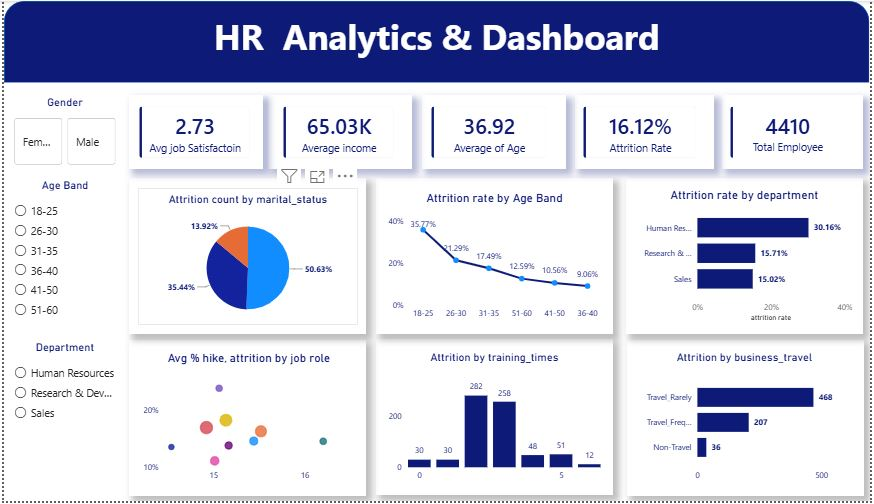

This screenshot's page, from the dashboard's own definition file:
{"tool":"powerbi","page":{"name":"Page 1","canvas":[1317,761],"ordinal":0},"visuals":[{"type":"shape","box":[0,0,1317,124.4],"z":0},{"type":"shape","box":[636.9,142.8,218.7,111.6],"z":0,"group":"g1"},{"type":"textbox","box":[0,12.1,1317,100.2],"z":1000},{"type":"shape","box":[869,142.8,211.3,111.6],"z":2000,"group":"g2"},{"type":"shape","box":[946.4,269.3,360.1,236.6],"z":2000},{"type":"shape","box":[566.9,269.3,360.1,236.6],"z":3000},{"type":"cardVisual","fields":{"Data":["Avg(public hr_full_data.age)"]},"box":[648.8,153.2,184.5,92.3],"z":4000,"group":"g1"},{"type":"shape","box":[190.2,269.4,360.1,236.6],"z":4000},{"type":"cardVisual","fields":{"Data":["Avg(public hr_full_data.monthly_income)"]},"box":[422.6,153.3,177.7,92.9],"z":5000},{"type":"cardVisual","fields":{"Data":["Avg(public hr_full_data.job_satisfaction)"]},"box":[203.9,153.3,177.7,92.9],"z":6000},{"type":"shape","box":[401.8,143.1,218.7,111.6],"z":7000},{"type":"shape","box":[190.5,142.8,203.9,111.6],"z":8000},{"type":"shape","box":[1092.2,142.8,214.3,111.6],"z":8000,"group":"g3"},{"type":"group","id":"g1","title":"Group 1","box":[636.9,142.8,218.7,111.6],"z":9000},{"type":"cardVisual","fields":{"Data":["public hr_full_data.attrition rate"]},"box":[879.4,153.2,181.5,92.3],"z":9000,"group":"g2"},{"type":"group","id":"g2","title":"Group 2","box":[869,142.8,211.3,111.6],"z":10000},{"type":"cardVisual","fields":{"Data":["public hr_full_data.total employee"]},"box":[1102.6,153.2,184.5,92.3],"z":10000,"group":"g3"},{"type":"group","id":"g3","title":"Group 3","box":[1092.2,142.8,214.3,111.6],"z":11000},{"type":"clusteredBarChart","title":"Attrition rate by department","fields":{"Y":["public hr_full_data.attrition rate"],"Category":["public hr_full_data.department"]},"box":[956.8,284.2,339.3,208.3],"z":12000},{"type":"lineChart","title":"Attrition rate by Age Band","fields":{"Y":["public hr_full_data.attrition rate"],"Category":["public hr_full_data.Age Band"]},"box":[580.3,284.2,333.3,208.3],"z":13000},{"type":"shape","box":[190.2,516,360.1,236.6],"z":14000},{"type":"shape","box":[566.2,514.4,360.1,236.6],"z":15000},{"type":"shape","box":[948.2,516,360.1,236.6],"z":16000},{"type":"pieChart","title":"Attrition count by marital_status","fields":{"Category":["public hr_full_data.marital_status"],"Y":["public hr_full_data.attrition count"]},"box":[203.9,284.6,334.8,208.5],"z":17000},{"type":"advancedSlicerVisual","title":"Gender","fields":{"Values":["public hr_full_data.gender"]},"box":[10.7,143.1,164.4,111.1],"z":18000},{"type":"listSlicer","fields":{"Values":["public hr_full_data.Age Band"]},"box":[10.7,269.4,164.4,235.9],"z":19000},{"type":"listSlicer","title":"Department","fields":{"Values":["public hr_full_data.department"]},"box":[10.7,516,164.4,146.1],"z":19001},{"type":"barChart","title":"Attrition by business_travel","fields":{"Category":["public hr_full_data.business_travel"],"Y":["public hr_full_data.attrition count"]},"box":[957.3,526.6,339.4,213.1],"z":19002},{"type":"columnChart","title":"Attrition by training_times","fields":{"Y":["public hr_full_data.attrition count"],"Category":["public hr_full_data.training_times_last_year"]},"box":[579.9,526.6,333.3,213.1],"z":19003},{"type":"scatterChart","title":"Avg % hike, attrition by job role","fields":{"X":["Avg(public hr_full_data.percent_salary_hike)"],"Y":["public hr_full_data.attrition rate"],"Size":["public hr_full_data.total employee"],"Series":["public hr_full_data.job_role"]},"box":[203.9,526.6,334.8,213.1],"z":19004}]}

Visuals, with their boxes in screenshot pixels (x1, y1, x2, y2), scaled from the page's 1317x761 canvas onto the 874x504 screenshot:
shape: bbox=(0, 0, 873, 82)
shape: bbox=(423, 95, 568, 168)
textbox: bbox=(0, 8, 873, 74)
shape: bbox=(577, 95, 717, 168)
shape: bbox=(628, 178, 867, 335)
shape: bbox=(376, 178, 615, 335)
cardVisual - Avg(public hr_full_data.age): bbox=(431, 101, 553, 163)
shape: bbox=(126, 178, 365, 335)
cardVisual - Avg(public hr_full_data.monthly_income): bbox=(280, 102, 398, 163)
cardVisual - Avg(public hr_full_data.job_satisfaction): bbox=(135, 102, 253, 163)
shape: bbox=(267, 95, 412, 169)
shape: bbox=(126, 95, 262, 168)
shape: bbox=(725, 95, 867, 168)
"Group 1" group: bbox=(423, 95, 568, 168)
cardVisual - public hr_full_data.attrition rate: bbox=(584, 101, 704, 163)
"Group 2" group: bbox=(577, 95, 717, 168)
cardVisual - public hr_full_data.total employee: bbox=(732, 101, 854, 163)
"Group 3" group: bbox=(725, 95, 867, 168)
"Attrition rate by department" clusteredBarChart: bbox=(635, 188, 860, 326)
"Attrition rate by Age Band" lineChart: bbox=(385, 188, 606, 326)
shape: bbox=(126, 342, 365, 498)
shape: bbox=(376, 341, 615, 497)
shape: bbox=(629, 342, 868, 498)
"Attrition count by marital_status" pieChart: bbox=(135, 188, 357, 327)
"Gender" advancedSlicerVisual: bbox=(7, 95, 116, 168)
listSlicer - public hr_full_data.Age Band: bbox=(7, 178, 116, 335)
"Department" listSlicer: bbox=(7, 342, 116, 438)
"Attrition by business_travel" barChart: bbox=(635, 349, 861, 490)
"Attrition by training_times" columnChart: bbox=(385, 349, 606, 490)
"Avg % hike, attrition by job role" scatterChart: bbox=(135, 349, 357, 490)
